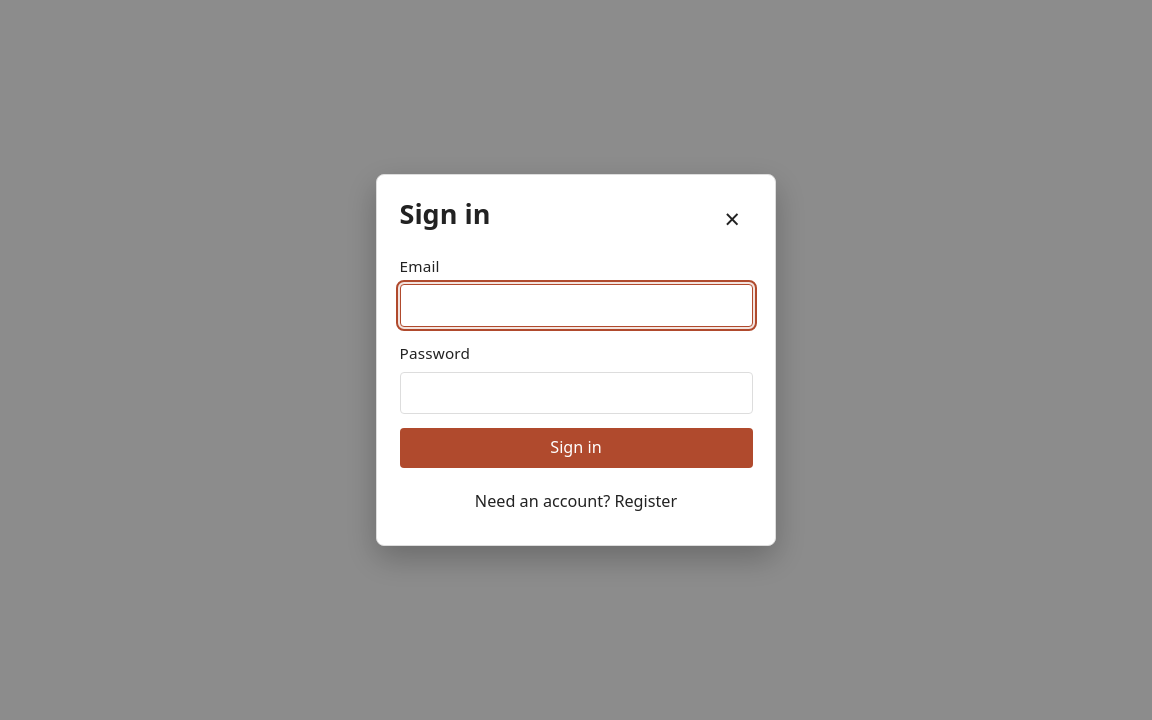
it: AuthDialog › switches to registration
Step 1. Click the button "Need an account? Register" → (576, 502), box [400, 482, 752, 522]
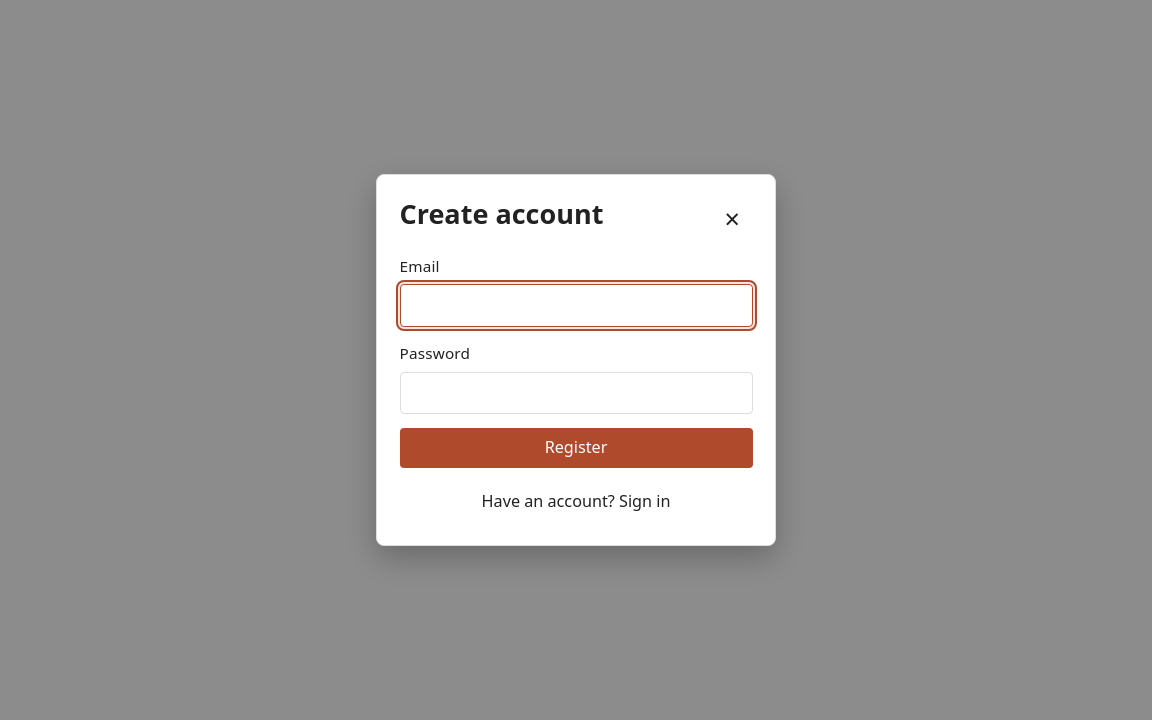
Check: the dialog "Create account" is shown, box [376, 174, 776, 546]
Check: the button "Register" is shown, box [400, 428, 752, 468]
